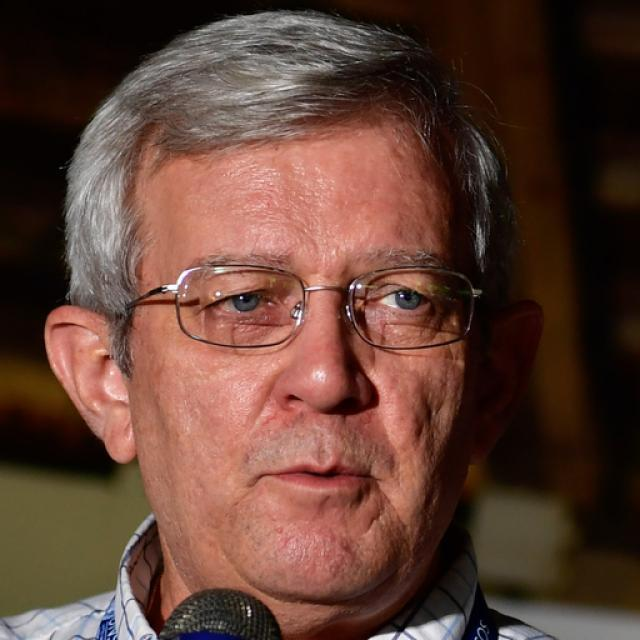sad: (134, 128, 474, 600)
